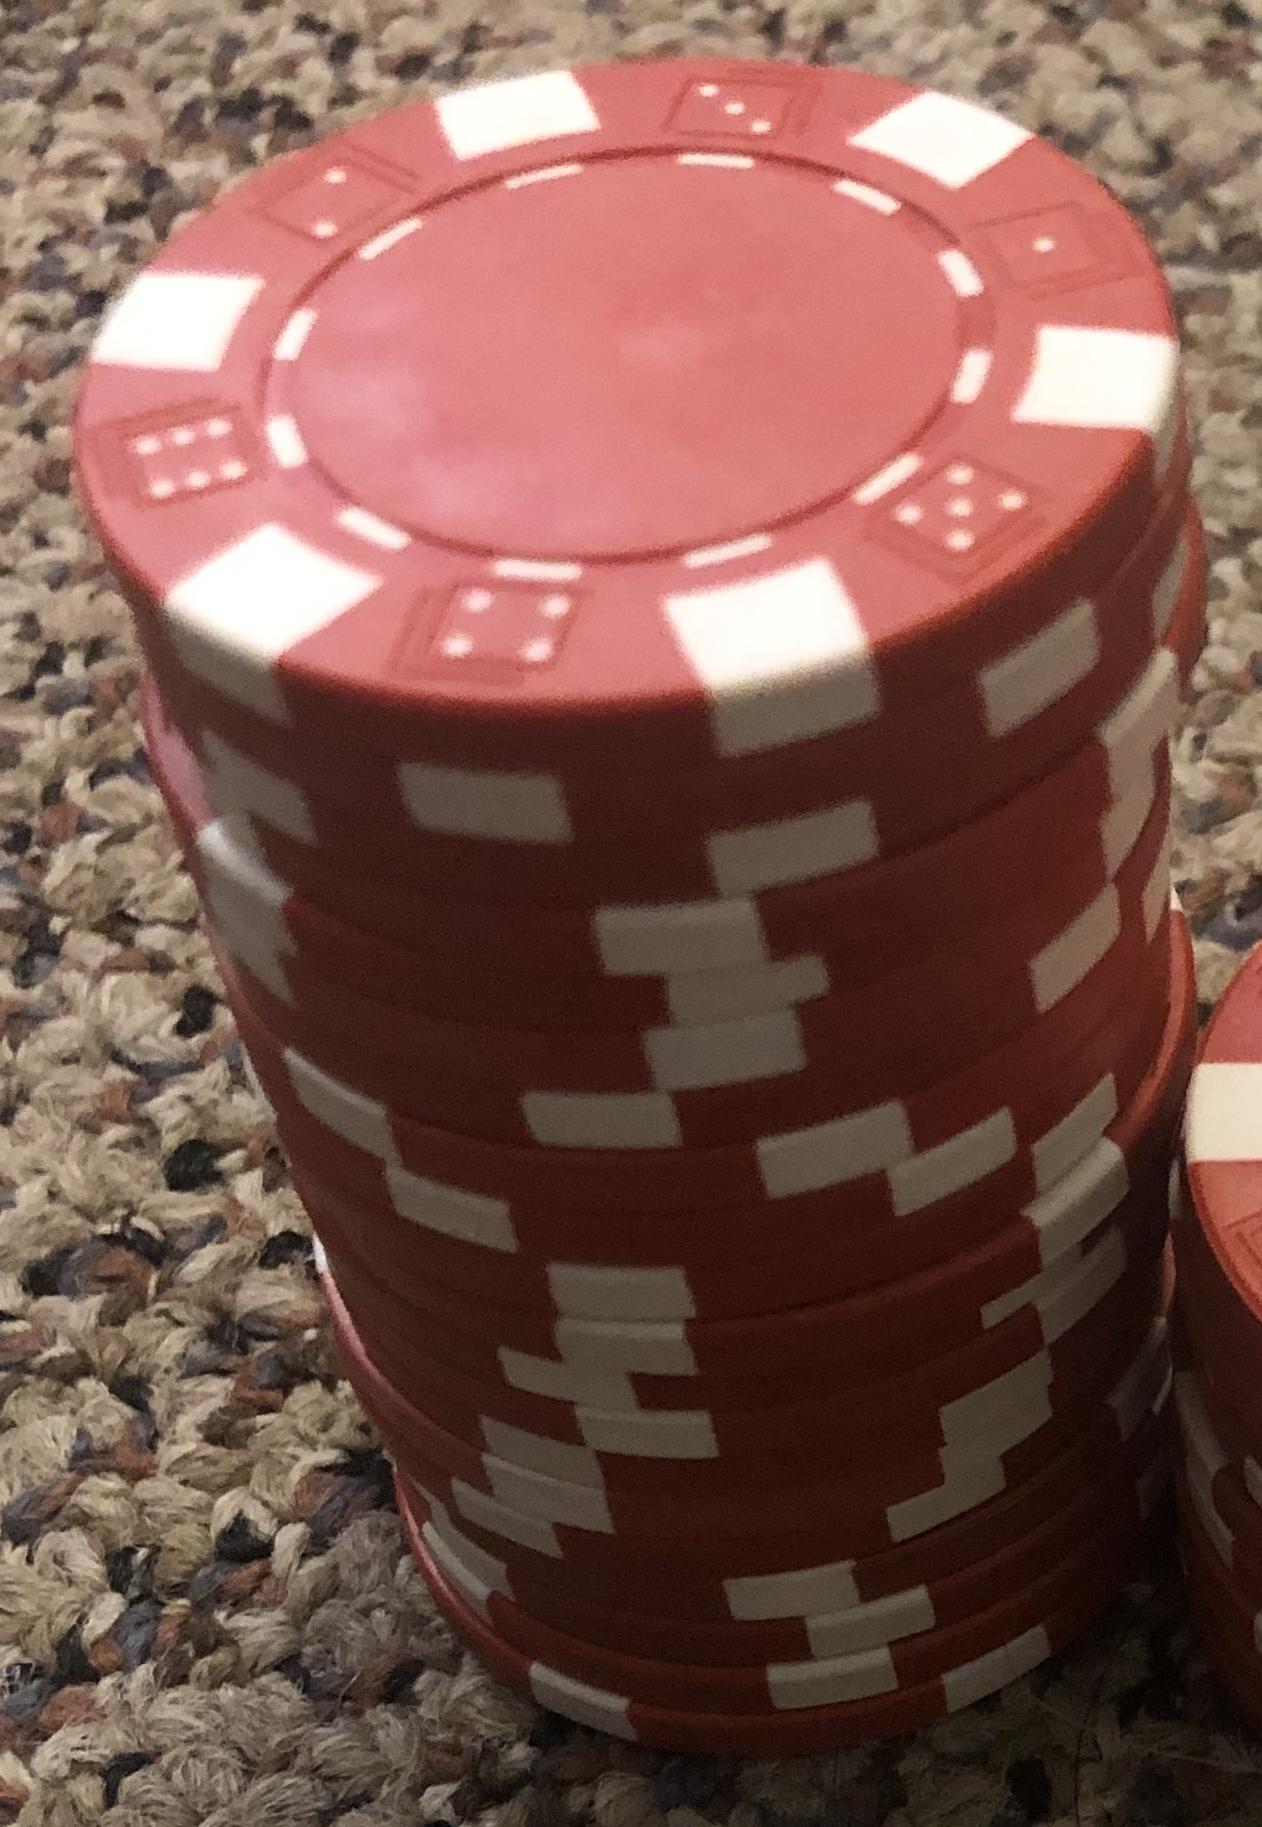Chip: (1, 1, 1262, 1827)
